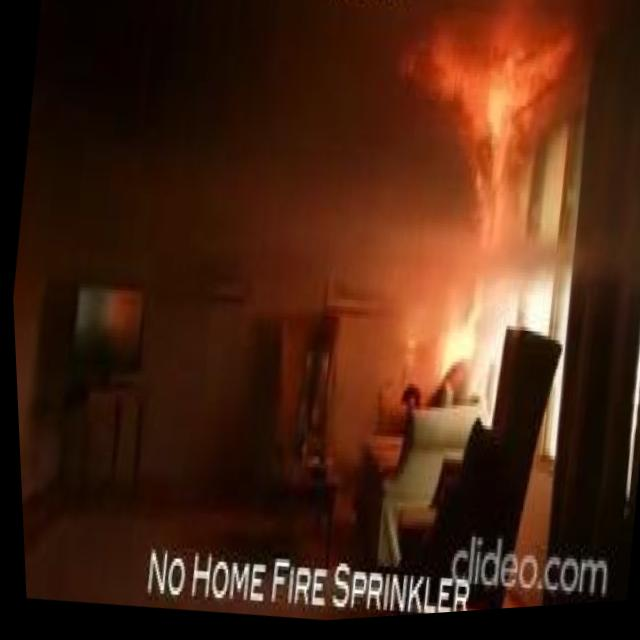fire: (441, 35, 546, 187), (430, 282, 487, 377)
